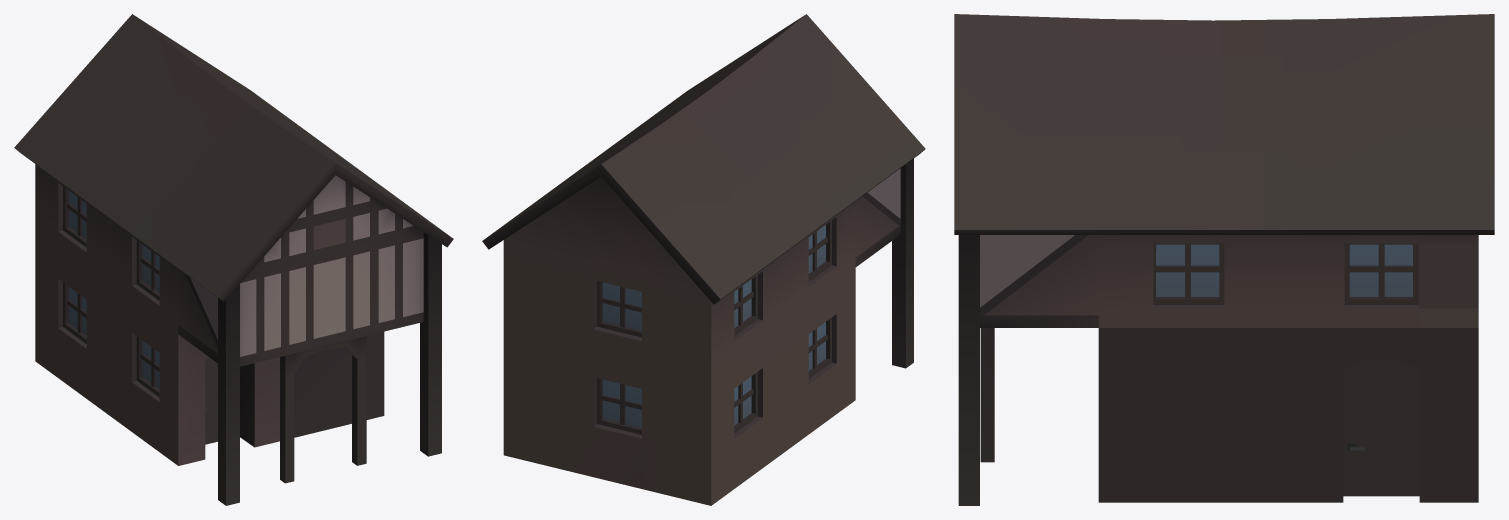
File: Historical_MedievalCottage_alt02.glb
The picture shows the model from 3 angles, left to right: view 1: azimuth 30°, elevation 25°; view 2: azimuth 150°, elevation 25°; view 3: azimuth 270°, elevation 25°; orthographic projection. The views are drawn at different scales.
Parts seen in each view (by area): view 1: base.098, windowRefl.070; view 2: base.098, windowRefl.070; view 3: base.098, windowRefl.070.
Boxes of the visible parts, left/top/right/bottom form: base.098: left=14, top=14, right=453, bottom=505; windowRefl.070: left=69, top=191, right=159, bottom=389; base.098: left=482, top=14, right=925, bottom=505; windowRefl.070: left=602, top=225, right=825, bottom=428; base.098: left=954, top=14, right=1494, bottom=505; windowRefl.070: left=1156, top=244, right=1412, bottom=296.
Size of the model in its own units: 7.2 by 9.25 by 10.72.
